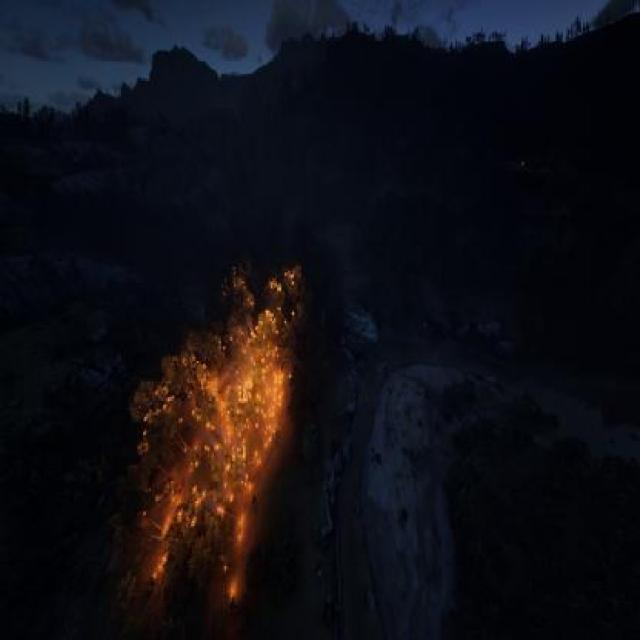Fire: (128, 242, 319, 616)
